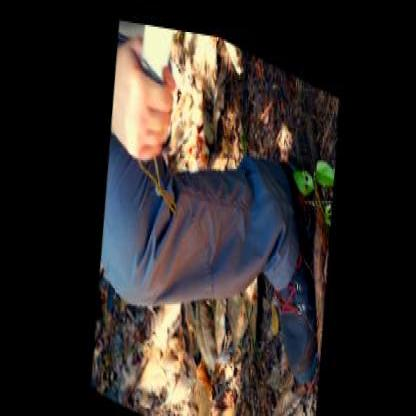knife: (110, 15, 185, 173)
